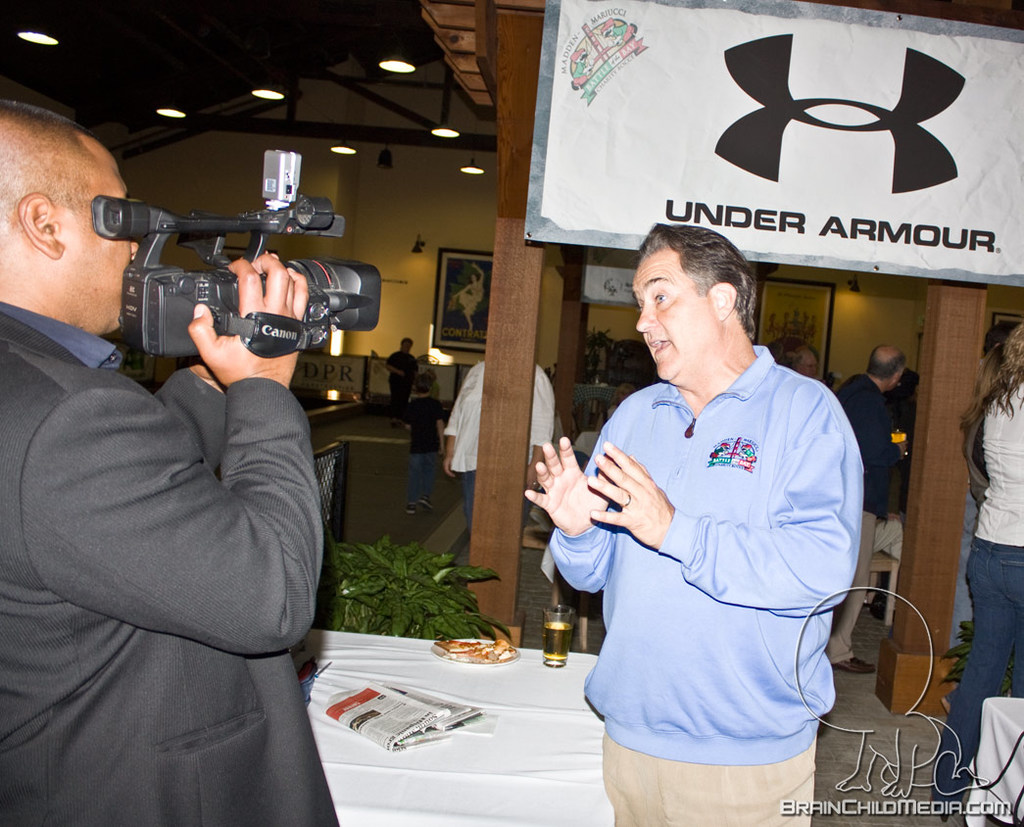Human_hand: (185, 247, 311, 387), (518, 432, 613, 542), (580, 446, 677, 548), (441, 459, 461, 478)
